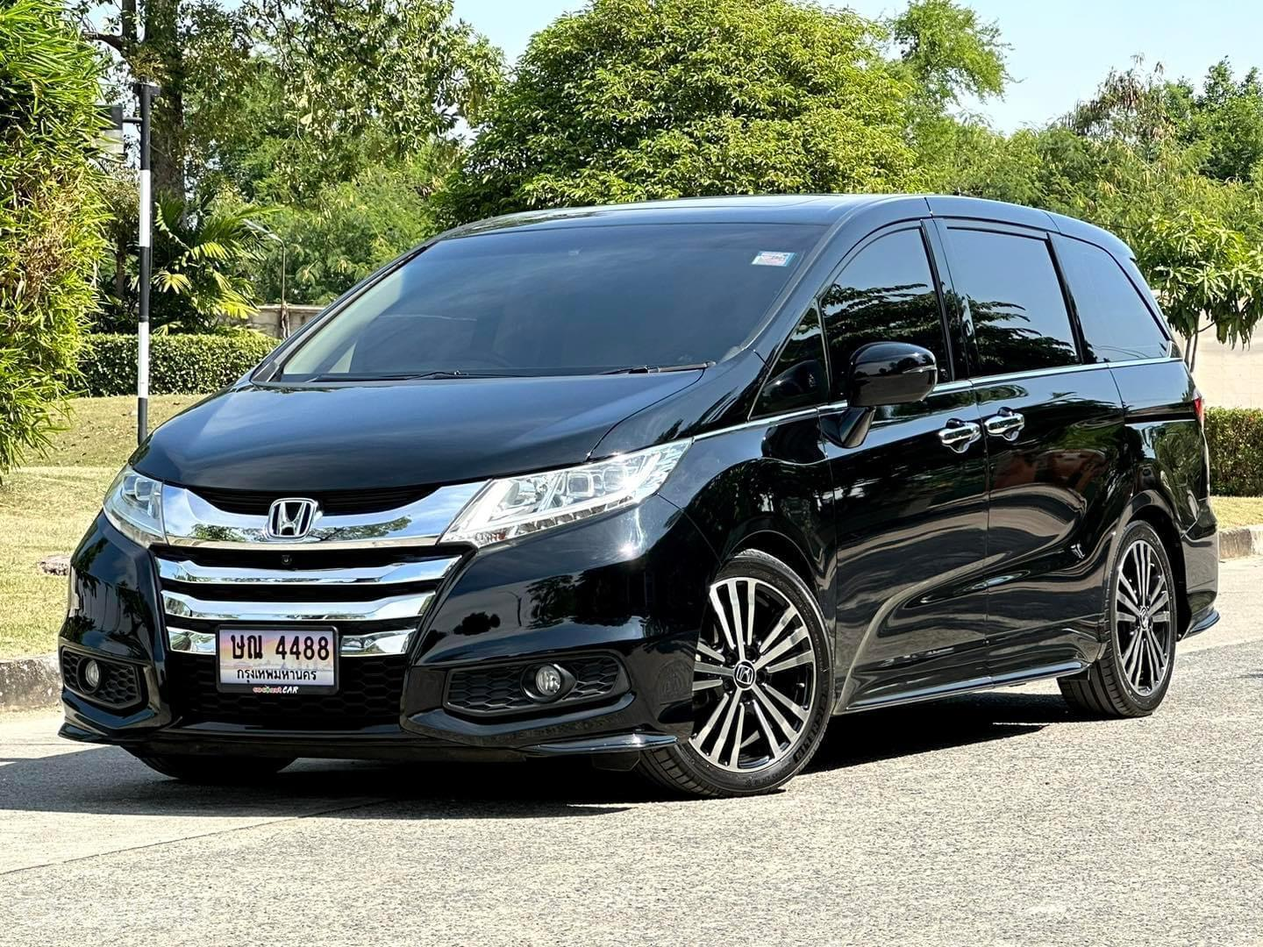license-plate: (211, 617, 344, 699)
